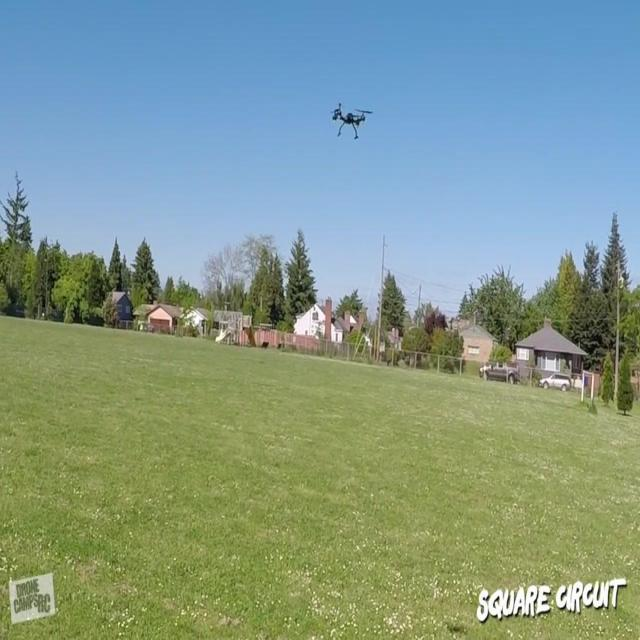UAV: (331, 103, 374, 140)
